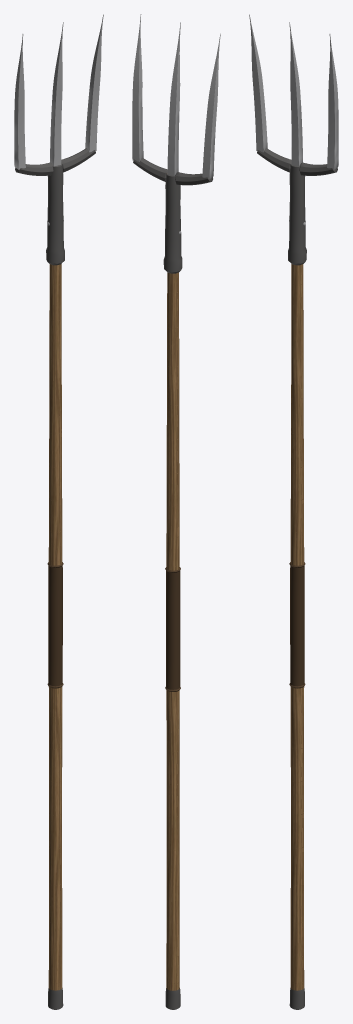
The model's file is gear_frontier_pitchfork.glb.
3 views of the same model, side by side, from view 1: azimuth 30°, elevation 25°; view 2: azimuth 150°, elevation 25°; view 3: azimuth 330°, elevation 25° (orthographic).
Parts seen in each view (by area): view 1: gear_frontier_pitchfork; view 2: gear_frontier_pitchfork; view 3: gear_frontier_pitchfork.
Boxes of the visible parts, <box> form: gear_frontier_pitchfork: <box>14,14,103,1009</box>; gear_frontier_pitchfork: <box>132,14,220,1009</box>; gear_frontier_pitchfork: <box>249,14,338,1009</box>.
Size of the model in its own units: 0.2141 by 2.47 by 0.0558.
5 materials, 1 textured.
